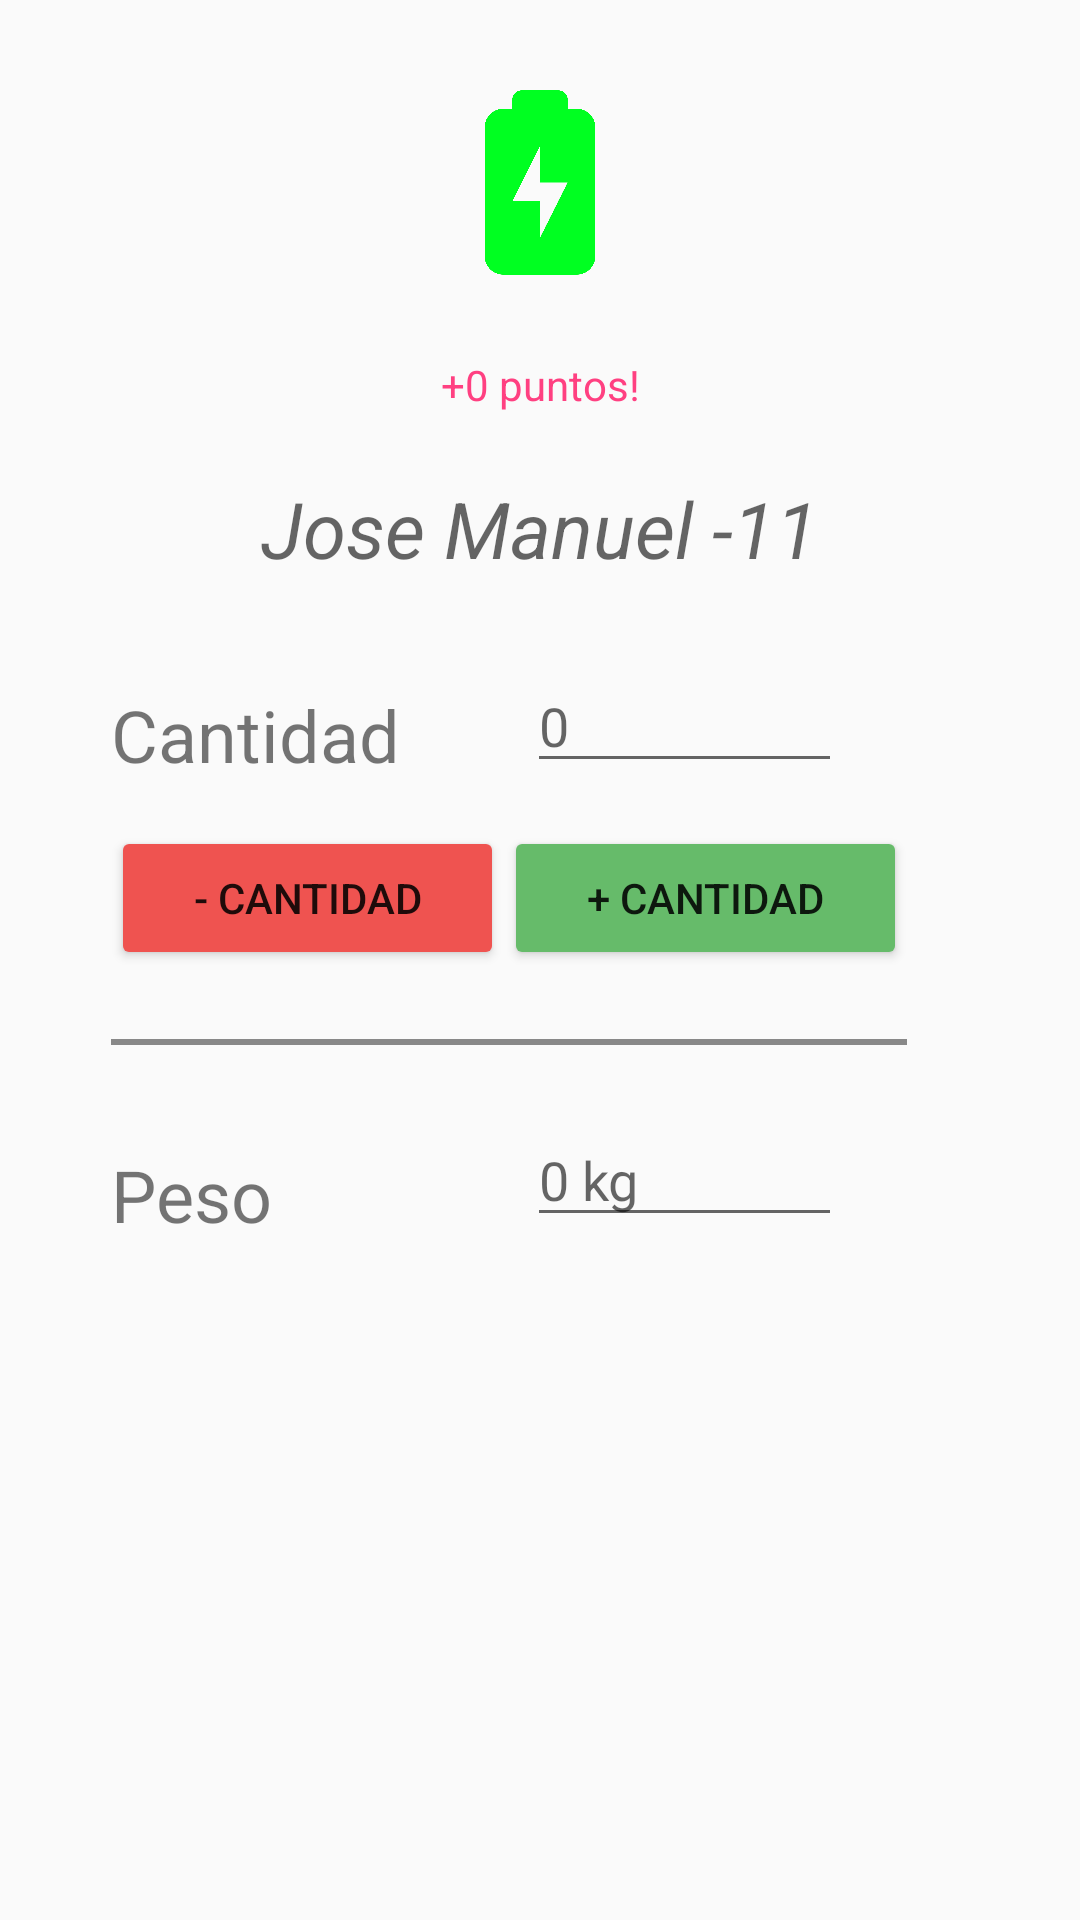

Point at icon controls on the screen. Image size 1080x1920, points as point (x, y).
battery: point (540, 182)
